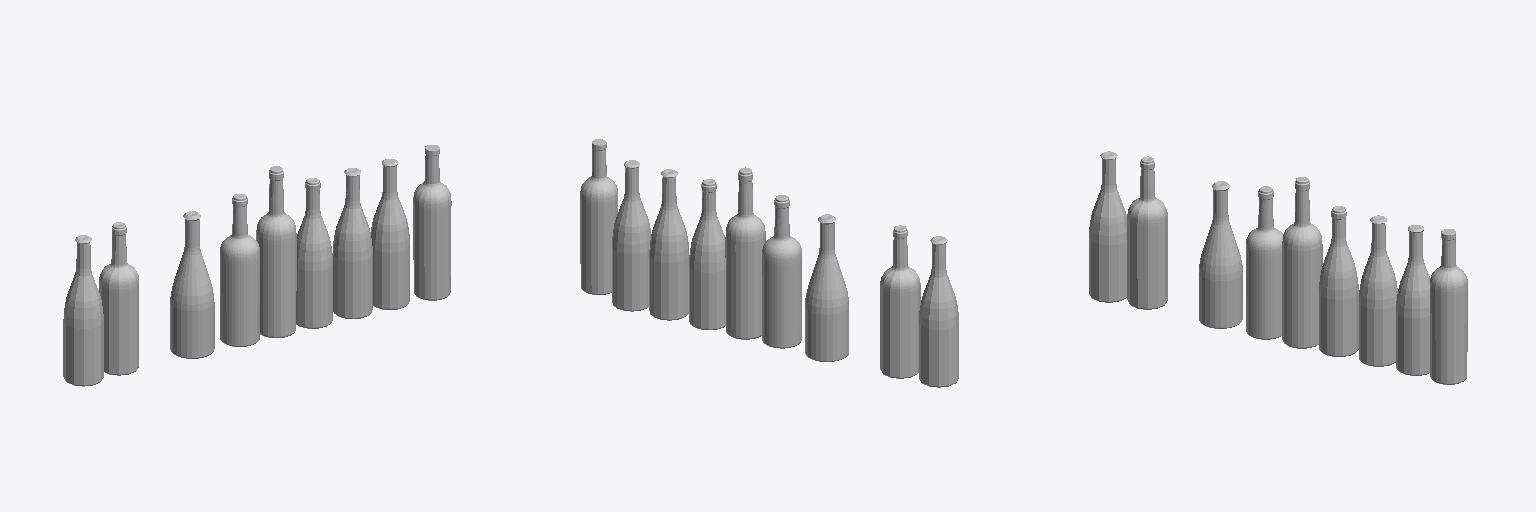
File: bottle_750ml.obj
3 renders of one model, left to right at view 1: azimuth 30°, elevation 25°; view 2: azimuth 150°, elevation 25°; view 3: azimuth 330°, elevation 25°, orthographic.
Visible parts, largest first — view 1: estate_red__bottle, bordeax_bottle, Madria_Sangria_750, Gallo_Chard, GalloSonomaChard, estate_white_bottle, Gallo_cab, Frei_white_bottle, white_bottle; view 2: estate_red__bottle, bordeax_bottle, Gallo_cab, Gallo_Chard, estate_white_bottle, GalloSonomaChard, Madria_Sangria_750, Frei_white_bottle, white_bottle; view 3: estate_red__bottle, Gallo_cab, Madria_Sangria_750, Gallo_Chard, white_bottle, bordeax_bottle, GalloSonomaChard, estate_white_bottle, Frei_white_bottle.
Part boxes in pixels (x1,y1,x2,y2): estate_red__bottle: (256, 166, 296, 337); bordeax_bottle: (220, 194, 259, 346); Madria_Sangria_750: (413, 145, 451, 300); Gallo_Chard: (170, 211, 214, 358); GalloSonomaChard: (63, 235, 103, 386); estate_white_bottle: (333, 168, 372, 318); Gallo_cab: (99, 222, 138, 375); Frei_white_bottle: (371, 159, 409, 309); white_bottle: (296, 178, 332, 328); estate_red__bottle: (725, 167, 765, 339); bordeax_bottle: (762, 195, 801, 348); Gallo_cab: (880, 225, 920, 378); Gallo_Chard: (805, 214, 848, 361); estate_white_bottle: (649, 169, 688, 320); GalloSonomaChard: (919, 236, 958, 387); Madria_Sangria_750: (580, 139, 617, 294); Frei_white_bottle: (612, 160, 650, 311); white_bottle: (689, 179, 725, 329); estate_red__bottle: (1282, 177, 1322, 348); Gallo_cab: (1127, 156, 1167, 309); Madria_Sangria_750: (1430, 229, 1467, 384); Gallo_Chard: (1199, 181, 1242, 328); white_bottle: (1319, 206, 1358, 356); bordeax_bottle: (1246, 186, 1282, 339); GalloSonomaChard: (1089, 151, 1126, 302); estate_white_bottle: (1359, 215, 1397, 366); Frei_white_bottle: (1396, 225, 1429, 375).
Size of the model in its own units: 12.96 by 5.34 by 1.59.